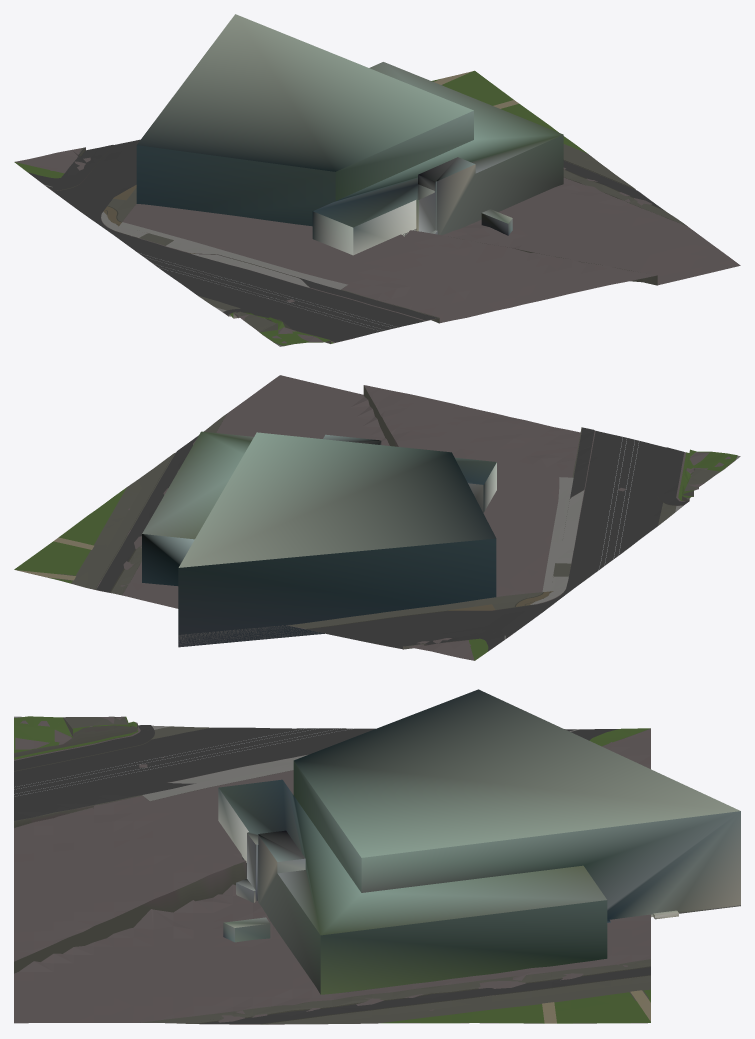
3 views of the same model, one above another, from view 1: azimuth 30°, elevation 25°; view 2: azimuth 150°, elevation 25°; view 3: azimuth 270°, elevation 25° (orthographic). The views are drawn at different scales.
Visible parts, largest first — view 1: c_m08_m04; view 2: c_m08_m04; view 3: c_m08_m04.
Part boxes in pixels (x1=…): c_m08_m04: x1=14, y1=14, x2=740, y2=346; c_m08_m04: x1=14, y1=375, x2=740, y2=660; c_m08_m04: x1=14, y1=689, x2=740, y2=1024.
Bounding box in the file's own units: 128 × 21.36 × 146.
